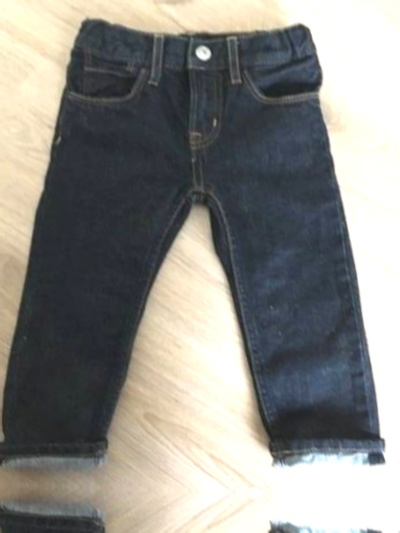Pants: (0, 0, 397, 480), (0, 502, 379, 533), (387, 517, 400, 533)
